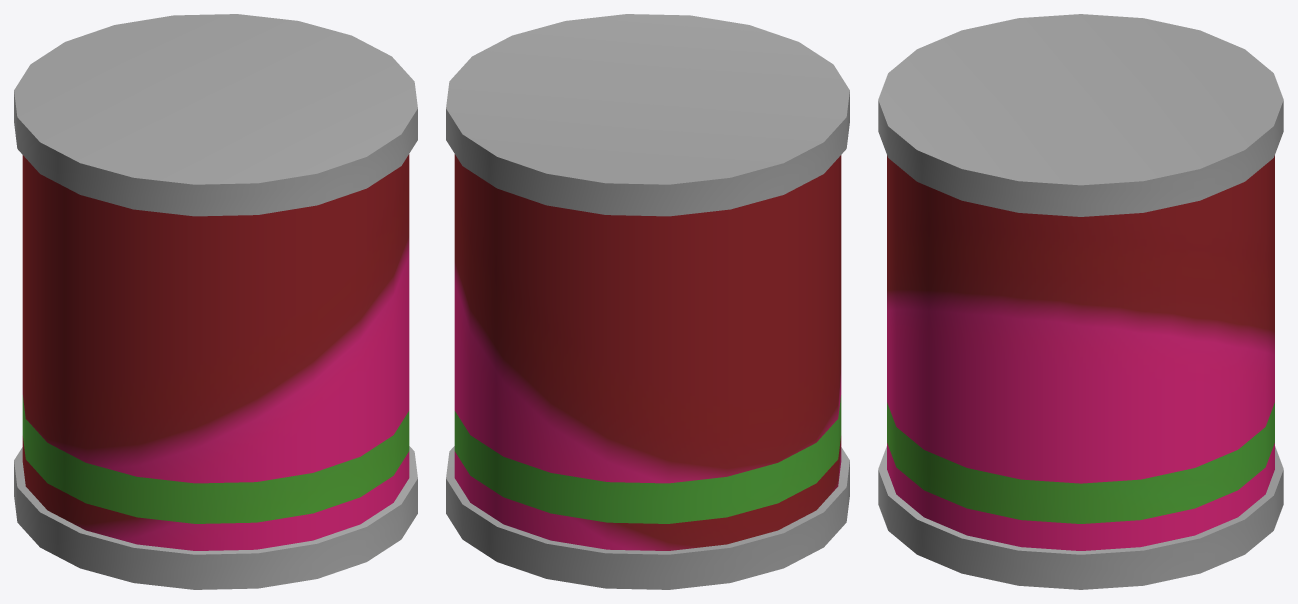
File: Ürün80.fbx
The picture shows the model from 3 angles, left to right: view 1: azimuth 30°, elevation 25°; view 2: azimuth 150°, elevation 25°; view 3: azimuth 270°, elevation 25°; orthographic projection.
Parts seen in each view (by area): view 1: pCylinder54; view 2: pCylinder54; view 3: pCylinder54.
Boxes of the visible parts, box(x1,y1,x2,y2) form: pCylinder54: box(14, 14, 417, 589); pCylinder54: box(446, 14, 849, 589); pCylinder54: box(878, 14, 1283, 589).
Bounding box in the file's own units: 9.51 × 10.47 × 9.51.
